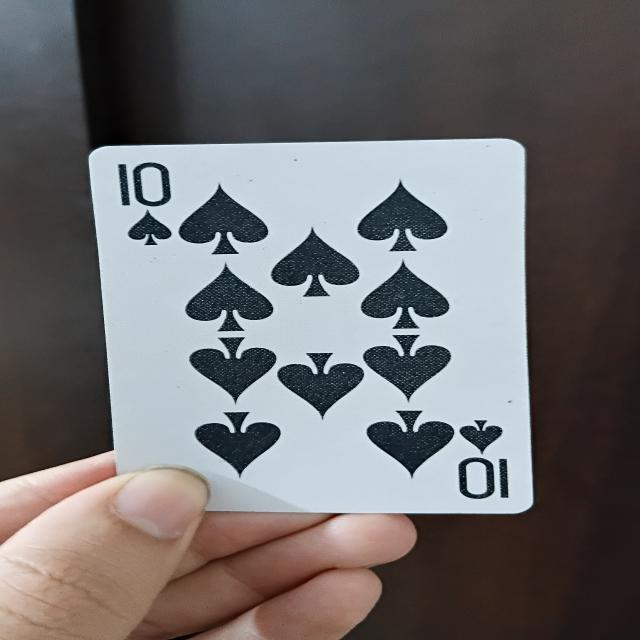10S: (94, 141, 518, 512)
